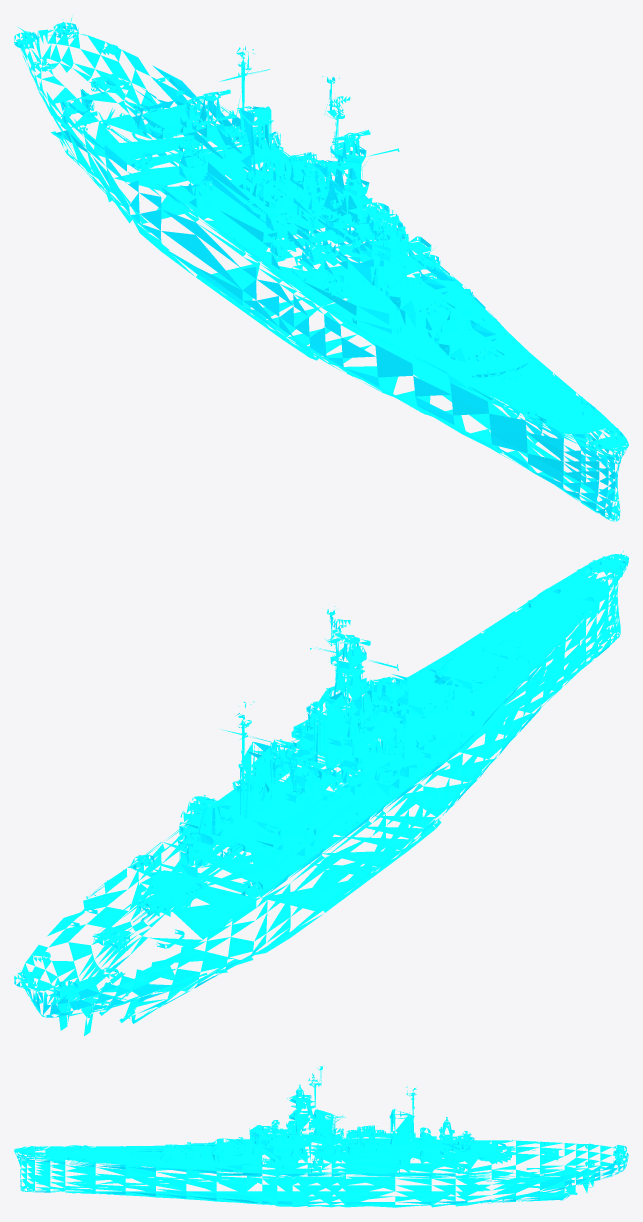
Rendered from PASB720.glb.
3 views of the same model, one above another, from view 1: azimuth 30°, elevation 25°; view 2: azimuth 150°, elevation 25°; view 3: azimuth 270°, elevation 25° (orthographic). The views are drawn at different scales.
Visible parts, largest first — view 1: hull, turret; view 2: hull, turret; view 3: hull, turret.
Part boxes in pixels (x1=…): hull: x1=14, y1=22, x2=628, y2=521; turret: x1=18, y1=15, x2=504, y2=371; hull: x1=14, y1=551, x2=628, y2=1035; turret: x1=20, y1=643, x2=515, y2=993; hull: x1=14, y1=1065, x2=628, y2=1207; turret: x1=135, y1=1121, x2=624, y2=1171.
Size of the model in its own units: 2.23 by 3.84 by 17.17.
